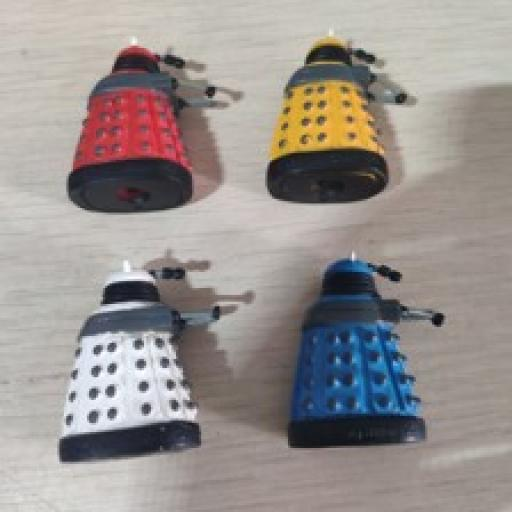dalek: (59, 260, 226, 461), (286, 253, 444, 447), (65, 44, 218, 217), (268, 33, 410, 202)
